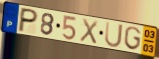5: (61, 14, 78, 42)
8: (40, 12, 55, 37)
G: (123, 26, 142, 52)
P: (16, 6, 39, 33)
U: (104, 21, 125, 49)
X: (79, 18, 99, 46)
